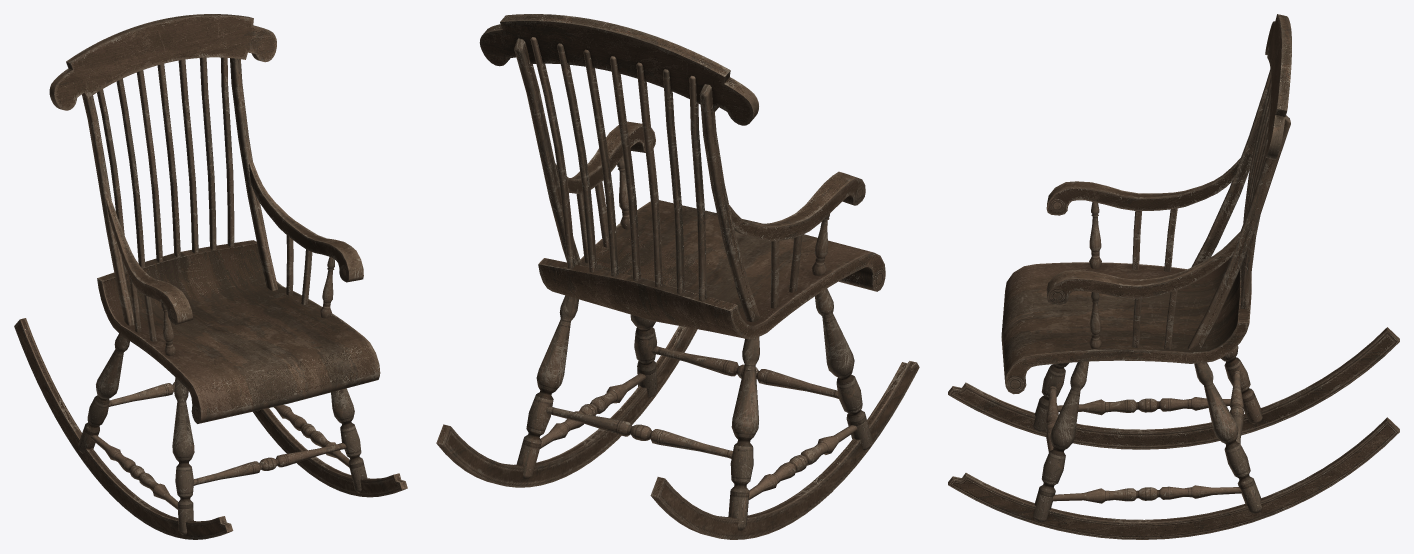
The model's file is Rocking_chair.fbx.
The picture shows the model from 3 angles, left to right: view 1: azimuth 30°, elevation 25°; view 2: azimuth 150°, elevation 25°; view 3: azimuth 270°, elevation 25°; orthographic projection. The views are drawn at different scales.
Visible parts, largest first — view 1: polySurface88; view 2: polySurface88; view 3: polySurface88.
Boxes of the visible parts, <box> form: polySurface88: <box>14,14,407,539</box>; polySurface88: <box>436,14,919,539</box>; polySurface88: <box>948,14,1399,539</box>.
Size of the model in its own units: 84.14 by 153 by 140.
